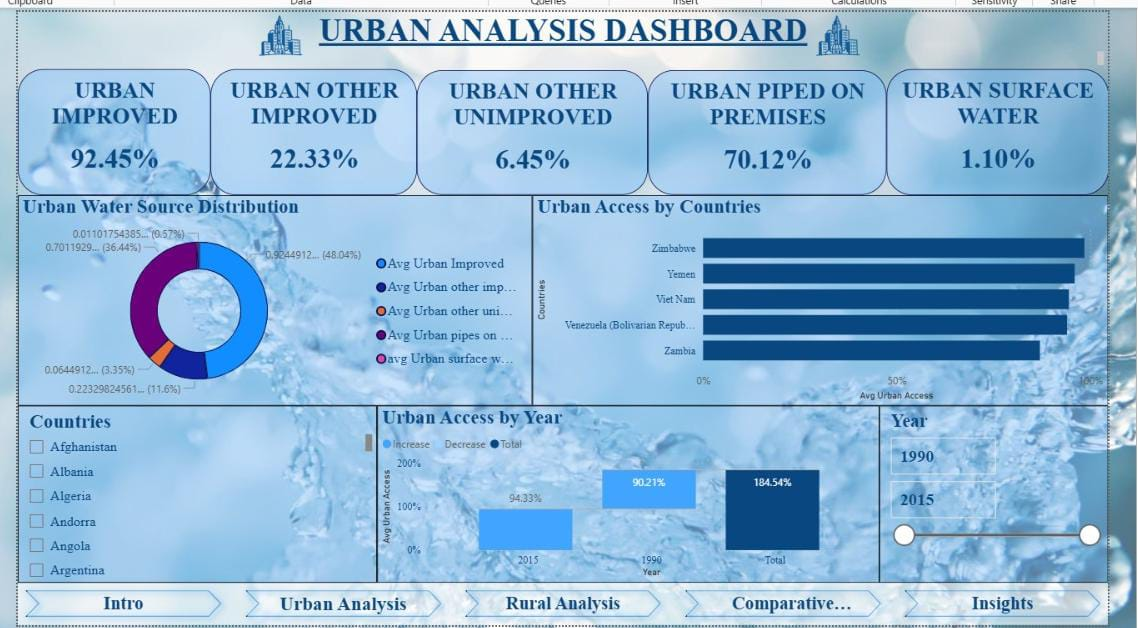

What the dashboard file says about the page in this screenshot:
{"tool":"powerbi","page":{"name":"Urban Analysis","canvas":[1280,720],"ordinal":1},"visuals":[{"type":"textbox","title":"URBAN ANALYSIS DASHBOARD","box":[0,0,1280.3,67.2],"z":0},{"type":"cardVisual","title":"URBAN IMPROVED","fields":{"Data":["Drinking Water Analysis Table.Avg Urban Improved"]},"box":[0,67.3,226.2,148],"z":1000},{"type":"cardVisual","title":"URBAN OTHER UNIMPROVED","fields":{"Data":["Drinking Water Analysis Table.Avg Urban other unimproved"]},"box":[468.3,68.5,271.5,146.7],"z":2000},{"type":"cardVisual","title":"URBAN OTHER IMPROVED","fields":{"Data":["Drinking Water Analysis Table.Avg Urban other improved"]},"box":[226.2,67.3,242.1,148],"z":3000},{"type":"cardVisual","title":"URBAN PIPED ON PREMISES","fields":{"Data":["Drinking Water Analysis Table.Avg Urban pipes on premises"]},"box":[739.8,68.5,280,146.7],"z":4000},{"type":"cardVisual","title":"URBAN SURFACE WATER","fields":{"Data":["Drinking Water Analysis Table.avg Urban surface water"]},"box":[1019.8,67.3,260.5,148],"z":5000},{"type":"image","box":[259.3,0,97.4,54.9],"z":6000},{"type":"image","box":[913.9,0,97.4,54.9],"z":7000},{"type":"donutChart","title":"Urban Water Source Distribution","fields":{"Y":["Drinking Water Analysis Table.Avg Urban Improved","Drinking Water Analysis Table.Avg Urban other improved","Drinking Water Analysis Table.Avg Urban other unimproved","Drinking Water Analysis Table.Avg Urban pipes on premises","Drinking Water Analysis Table.avg Urban surface water"]},"box":[0,215.2,604.1,247],"z":8000},{"type":"clusteredBarChart","title":"Urban Access by Countries","fields":{"Category":["Drinking Water Analysis Table.Countries and areas"],"Y":["Drinking Water Analysis Table.Avg Urban Access"]},"box":[604.1,215.2,676.2,247],"z":9000},{"type":"waterfallChart","title":"Urban Access by Year","fields":{"Category":["Drinking Water Analysis Table.Year"],"Y":["Drinking Water Analysis Table.Avg Urban Access"]},"box":[421.9,462.2,589.4,207.9],"z":10000},{"type":"pageNavigator","box":[0,669.8,1280.3,49.9],"z":11000},{"type":"slicer","fields":{"Values":["Drinking Water Analysis Table.Countries"]},"box":[0,462.2,421.9,207.9],"z":12000},{"type":"slicer","fields":{"Values":["Drinking Water Analysis Table.Year"]},"box":[1011,462,269,208],"z":13000}]}

Visuals, with their boxes on the page's 1280x720 design canvas (x1, y1, x2, y2). These are canvas units, not pixel positions in the 1138x628 screenshot, which may show the page scaled, cropped or inside an application window:
"URBAN ANALYSIS DASHBOARD" textbox: <bbox>0, 0, 1280, 67</bbox>
"URBAN IMPROVED" cardVisual: <bbox>0, 67, 226, 215</bbox>
"URBAN OTHER UNIMPROVED" cardVisual: <bbox>468, 68, 740, 215</bbox>
"URBAN OTHER IMPROVED" cardVisual: <bbox>226, 67, 468, 215</bbox>
"URBAN PIPED ON PREMISES" cardVisual: <bbox>740, 68, 1020, 215</bbox>
"URBAN SURFACE WATER" cardVisual: <bbox>1020, 67, 1280, 215</bbox>
image: <bbox>259, 0, 357, 55</bbox>
image: <bbox>914, 0, 1011, 55</bbox>
"Urban Water Source Distribution" donutChart: <bbox>0, 215, 604, 462</bbox>
"Urban Access by Countries" clusteredBarChart: <bbox>604, 215, 1280, 462</bbox>
"Urban Access by Year" waterfallChart: <bbox>422, 462, 1011, 670</bbox>
pageNavigator: <bbox>0, 670, 1280, 720</bbox>
slicer - Drinking Water Analysis Table.Countries: <bbox>0, 462, 422, 670</bbox>
slicer - Drinking Water Analysis Table.Year: <bbox>1011, 462, 1280, 670</bbox>
